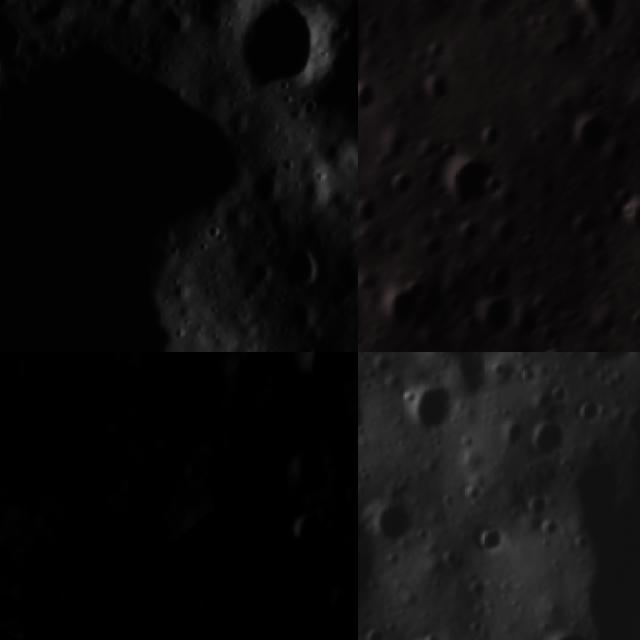crater: (0, 0, 358, 352), (215, 0, 356, 121), (287, 0, 358, 157), (268, 234, 339, 308), (275, 352, 358, 411), (185, 569, 247, 640), (400, 376, 467, 441), (276, 441, 339, 504), (366, 496, 432, 556), (0, 6, 50, 84), (440, 156, 503, 216), (377, 278, 432, 336), (280, 500, 335, 558), (142, 0, 198, 47), (25, 354, 76, 404), (520, 415, 574, 462), (568, 112, 618, 160), (566, 0, 638, 33), (244, 164, 291, 212), (317, 573, 358, 628), (469, 518, 520, 562), (85, 456, 131, 502), (142, 429, 188, 473), (297, 597, 343, 640), (476, 295, 518, 342), (241, 257, 283, 302), (510, 297, 552, 341), (319, 277, 358, 322), (194, 214, 234, 254), (105, 410, 145, 450), (570, 352, 640, 372), (0, 86, 17, 167), (417, 68, 454, 104), (378, 126, 414, 162), (482, 262, 516, 298), (384, 169, 416, 202), (274, 333, 329, 352), (339, 466, 358, 521), (358, 393, 372, 449), (358, 193, 381, 226), (345, 294, 358, 352), (484, 170, 507, 198), (358, 79, 375, 115), (427, 38, 449, 63), (630, 193, 640, 244), (535, 346, 567, 352)
